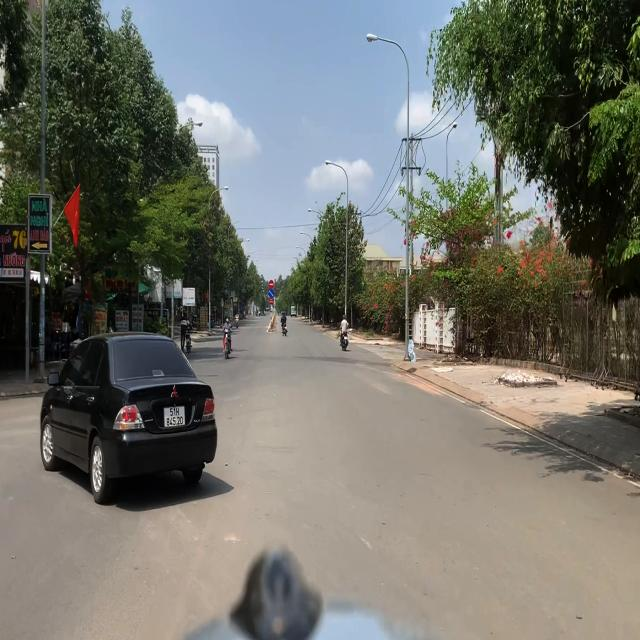Cam nguoc chieu: (269, 279, 274, 289)
Hieu lenh: (268, 289, 274, 298)
